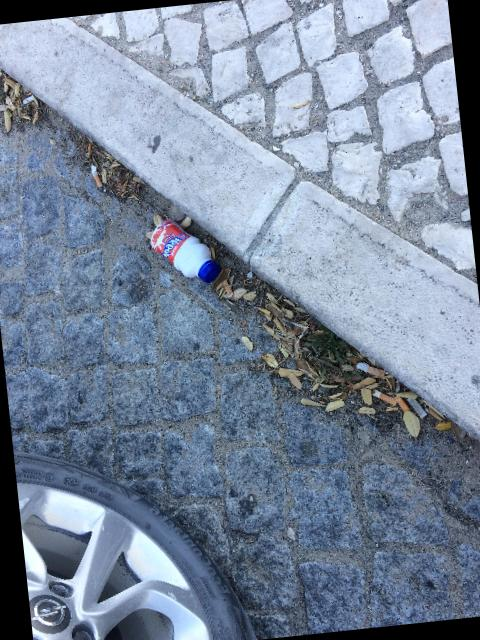plastic: (150, 218, 220, 281)
